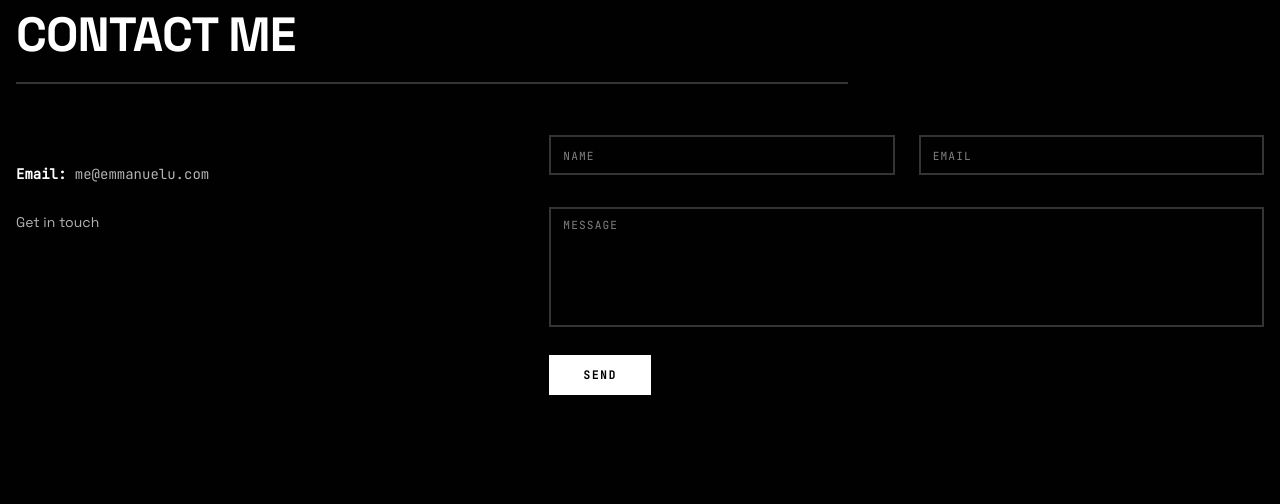
Test: Contact form › shows error message on send failure
Type "John" into the field with placeholder "NAME" at x=722, y=155, box top-left (549, 135), bottom-right (895, 175)
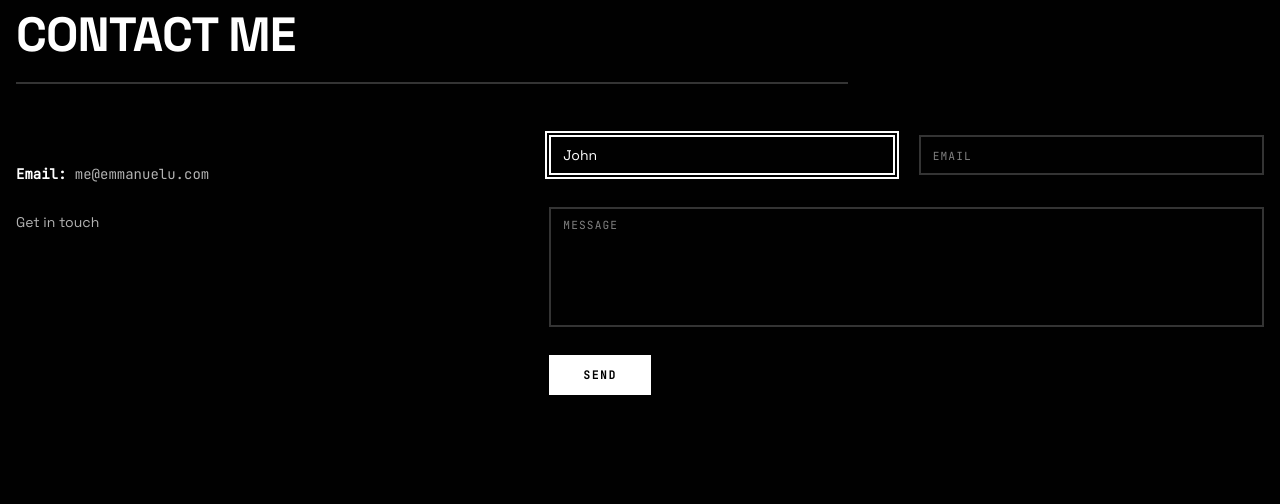
Type "john@test.com" into the field with placeholder "EMAIL" at x=1091, y=155, box top-left (919, 135), bottom-right (1264, 175)
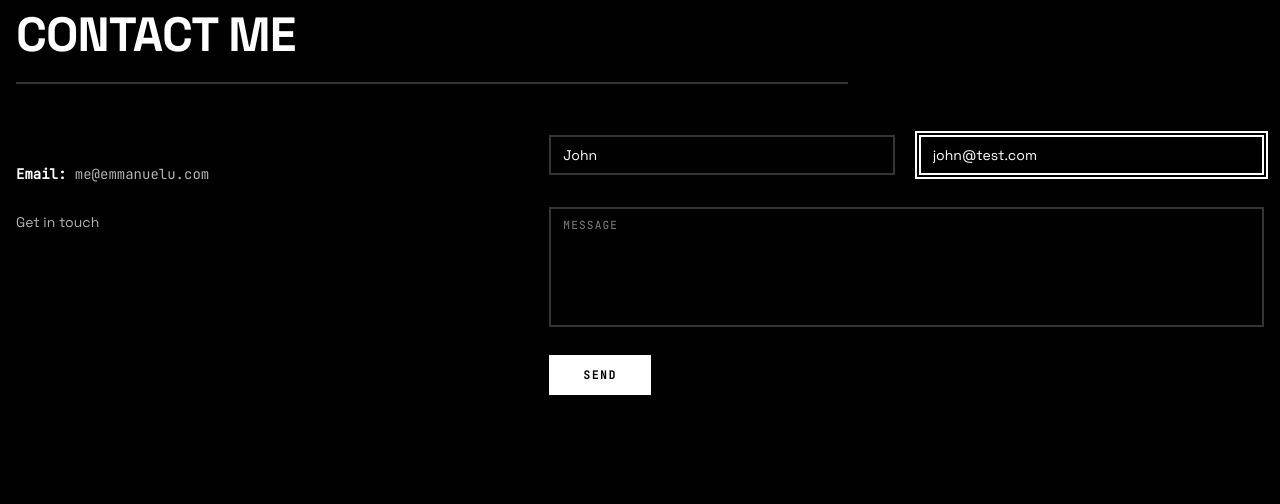
Type "Hello!" into the text box with placeholder "MESSAGE" at x=907, y=267, box top-left (549, 207), bottom-right (1264, 327)
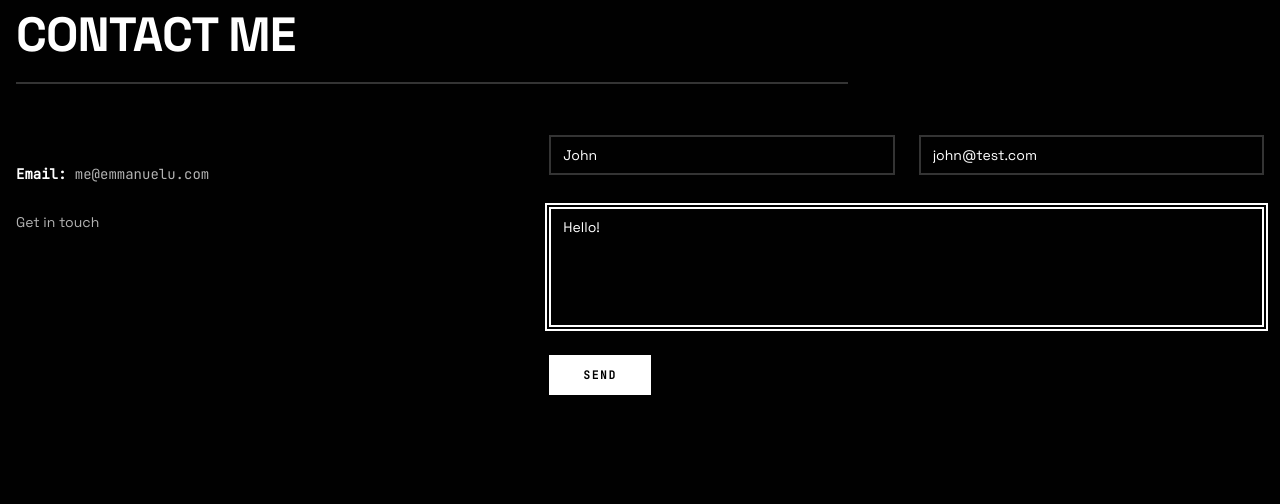
Click the button "Send" at x=600, y=375, box top-left (549, 355), bottom-right (651, 395)
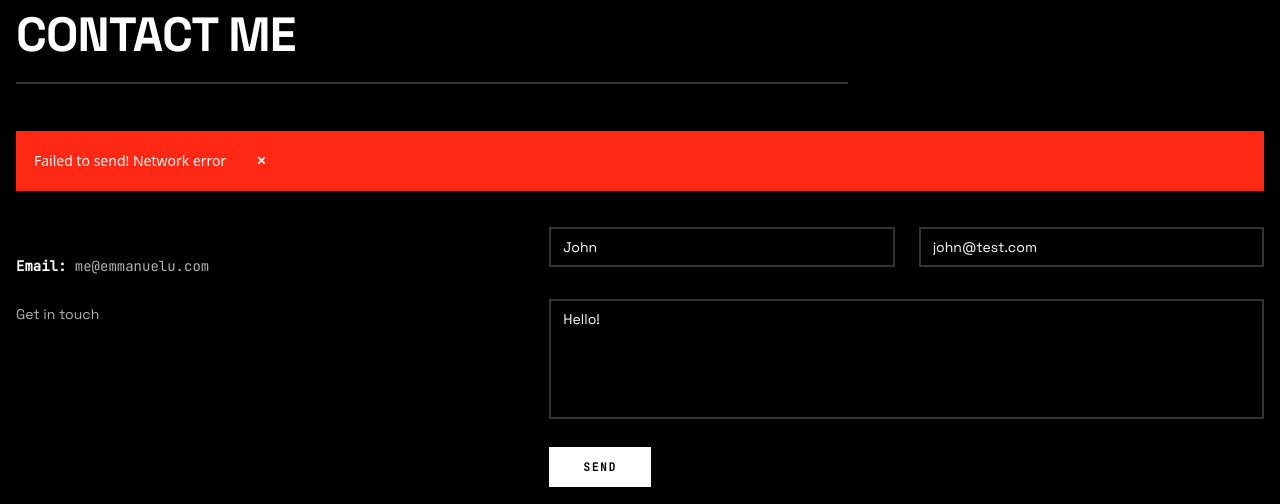
Now the message shows "Failed to send", box top-left (34, 151), bottom-right (226, 170)
